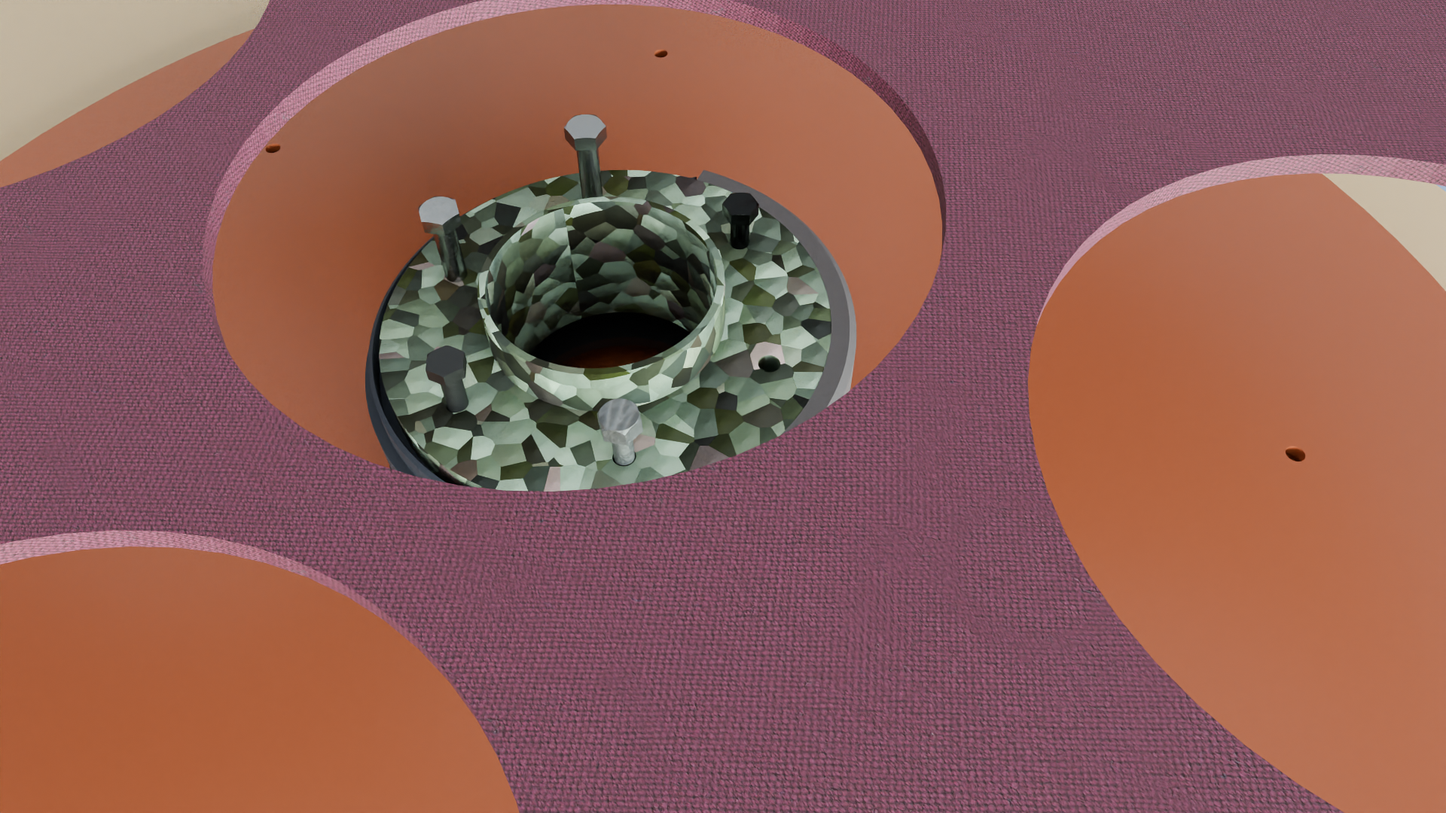bolt: (596, 398, 642, 435), (418, 196, 459, 225), (426, 346, 464, 377), (564, 114, 606, 139), (722, 193, 759, 216)
